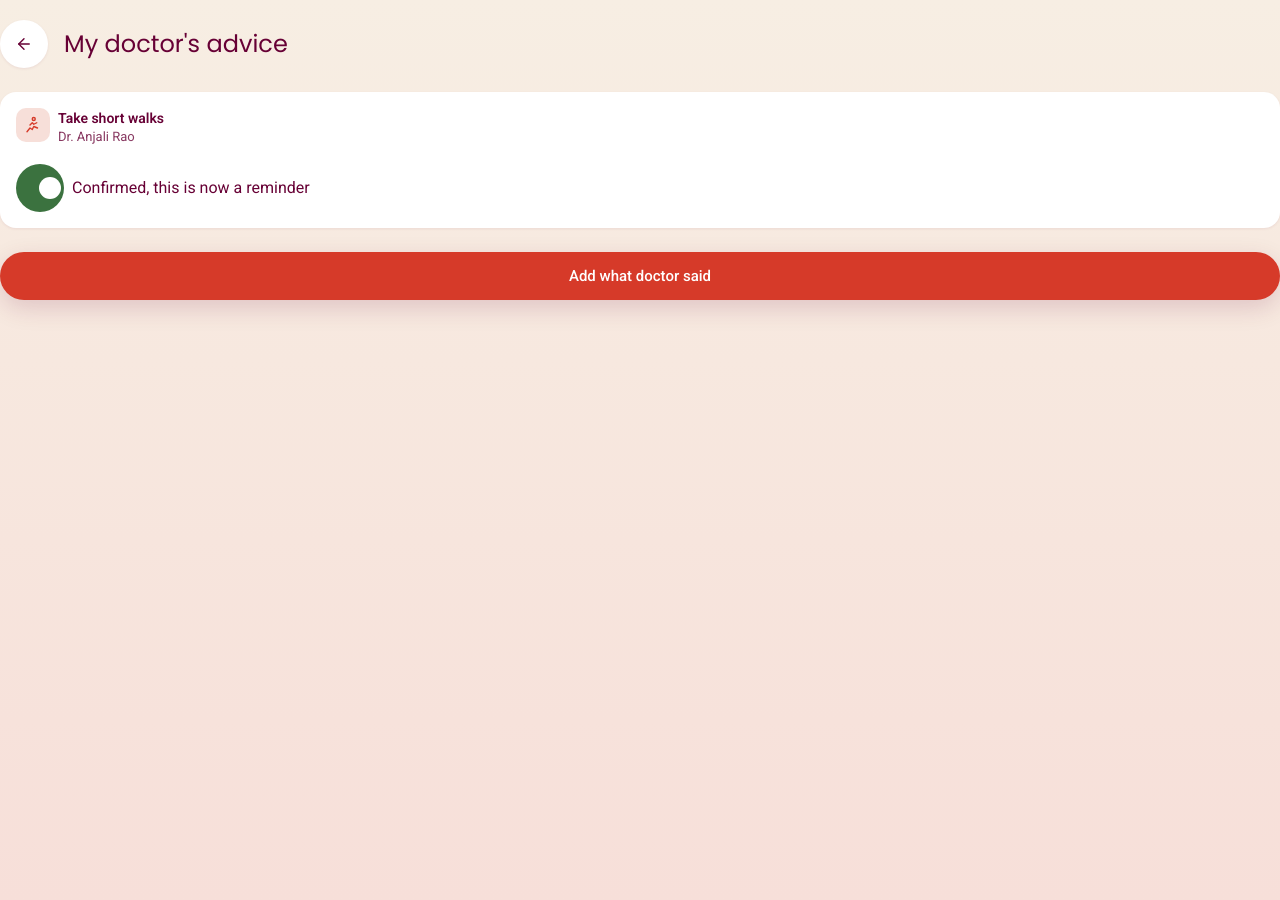
Test: AdviceScreen › appends an update to an existing thread and clears its confirmed status
Click the text "Take short walks" at (111, 118), box [58,110,164,126]
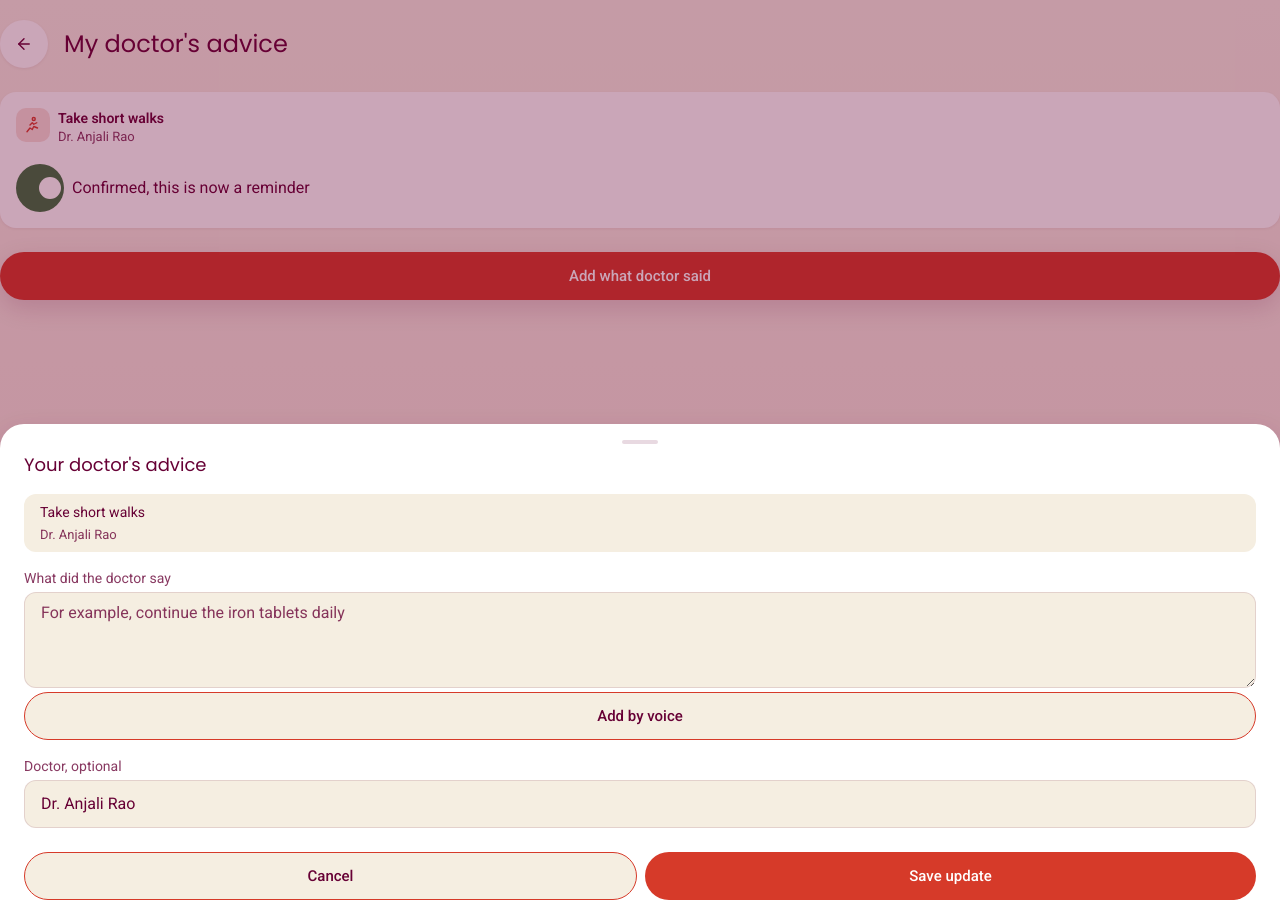
Expected: the heading "Your doctor's advice" is shown, [24,452,206,477]
Type "Switch to gentle stretching" into the text box labelled "What did the doctor say" at (640, 640), box [24,592,1256,688]
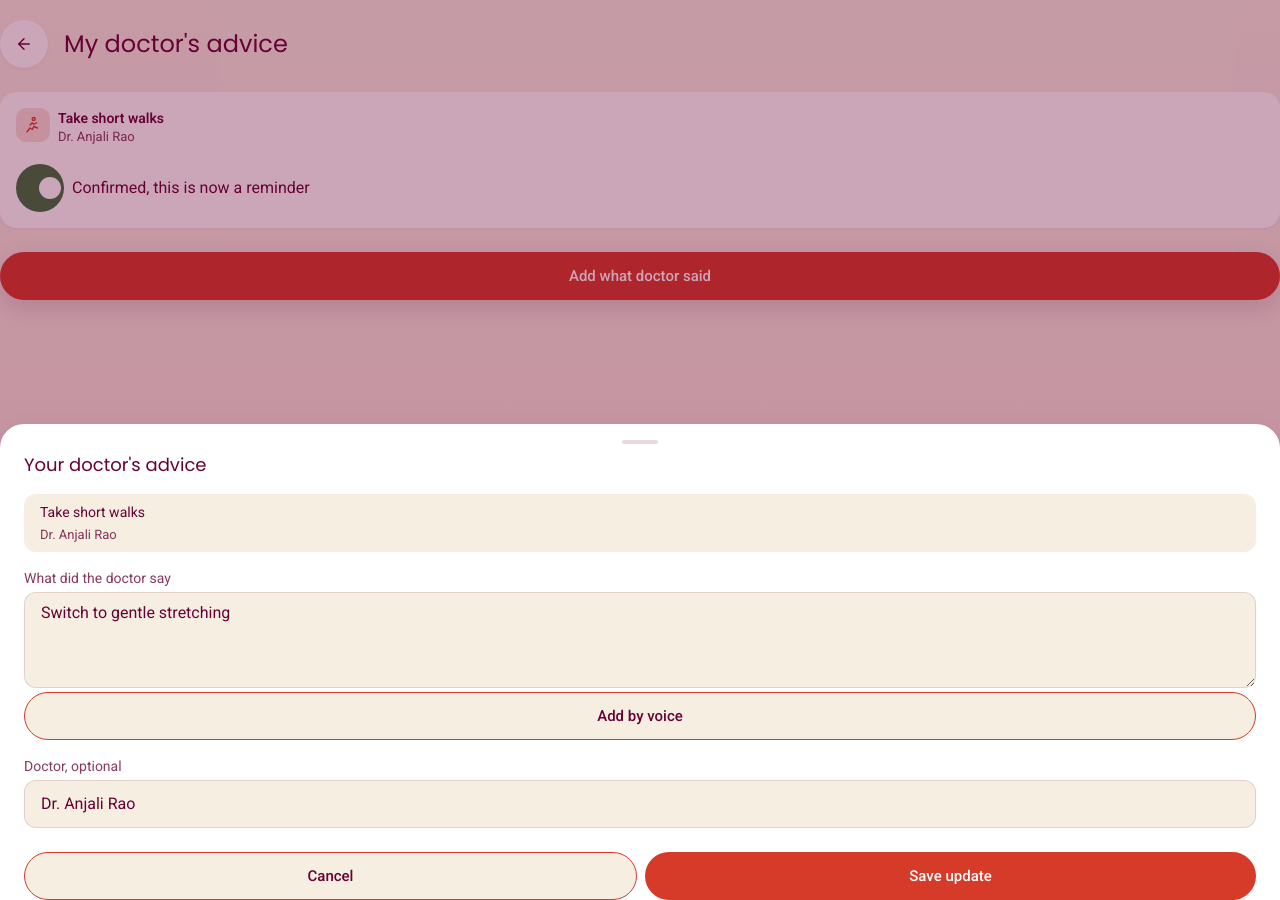
Click the button "Save update" at (950, 876), box [645,852,1256,899]
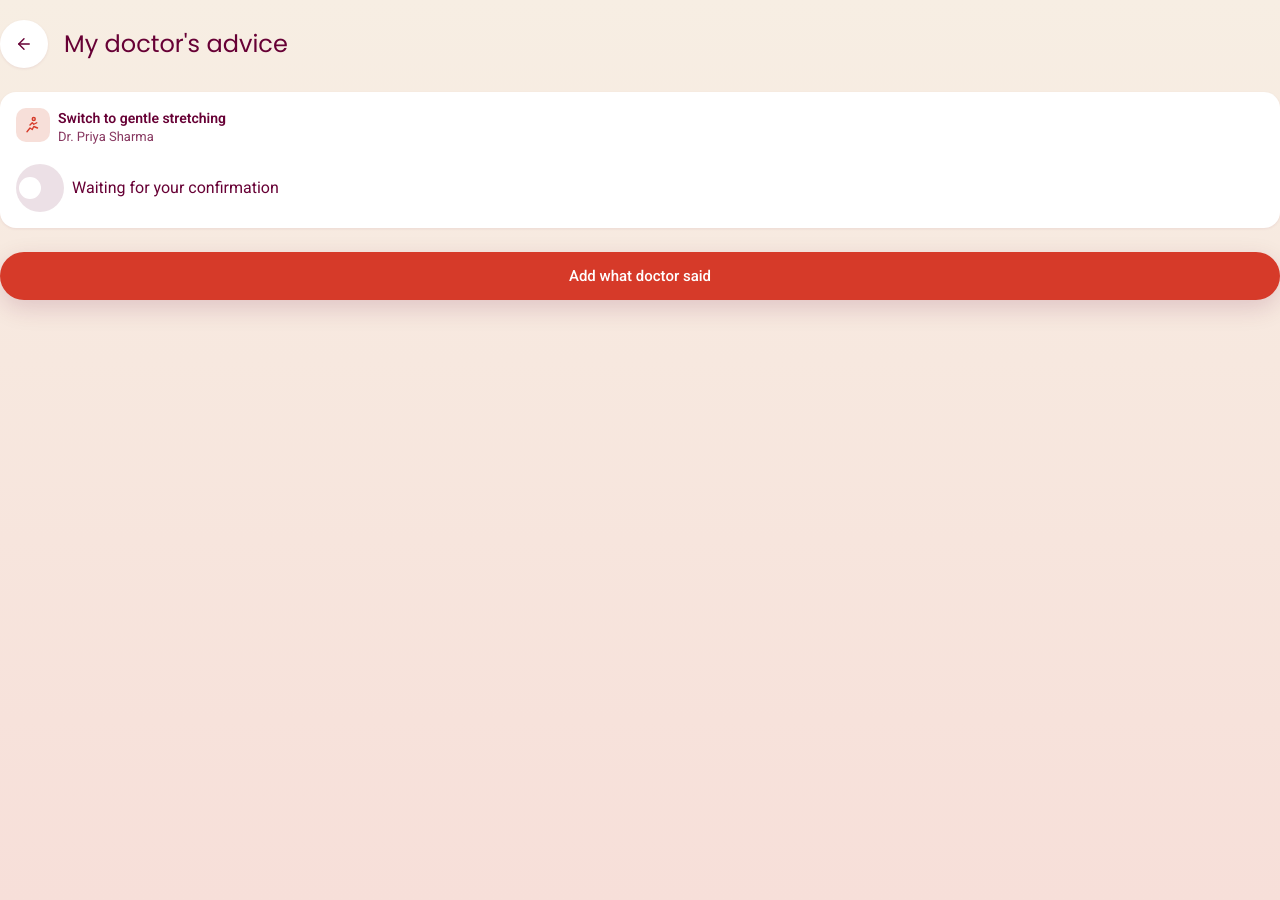
Expected: the text "Switch to gentle stretching" is shown, [58,110,226,126]
Expected: the text "Waiting for your confirmation" is shown, [72,176,279,200]
